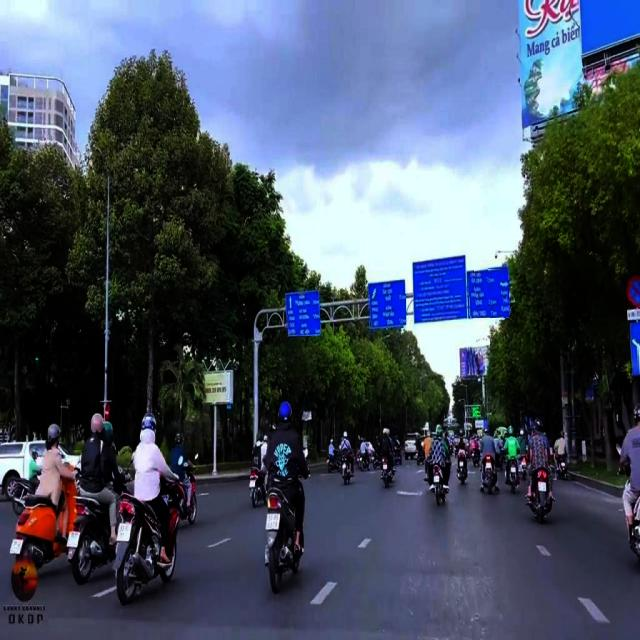cam_dung_xe_va_do_xe: (626, 276, 640, 308)
cam_xe_di_nguoc_chieu: (105, 402, 111, 420)
khac: (467, 267, 509, 318), (368, 280, 406, 328), (286, 292, 320, 336), (630, 323, 639, 378), (628, 309, 640, 322)
